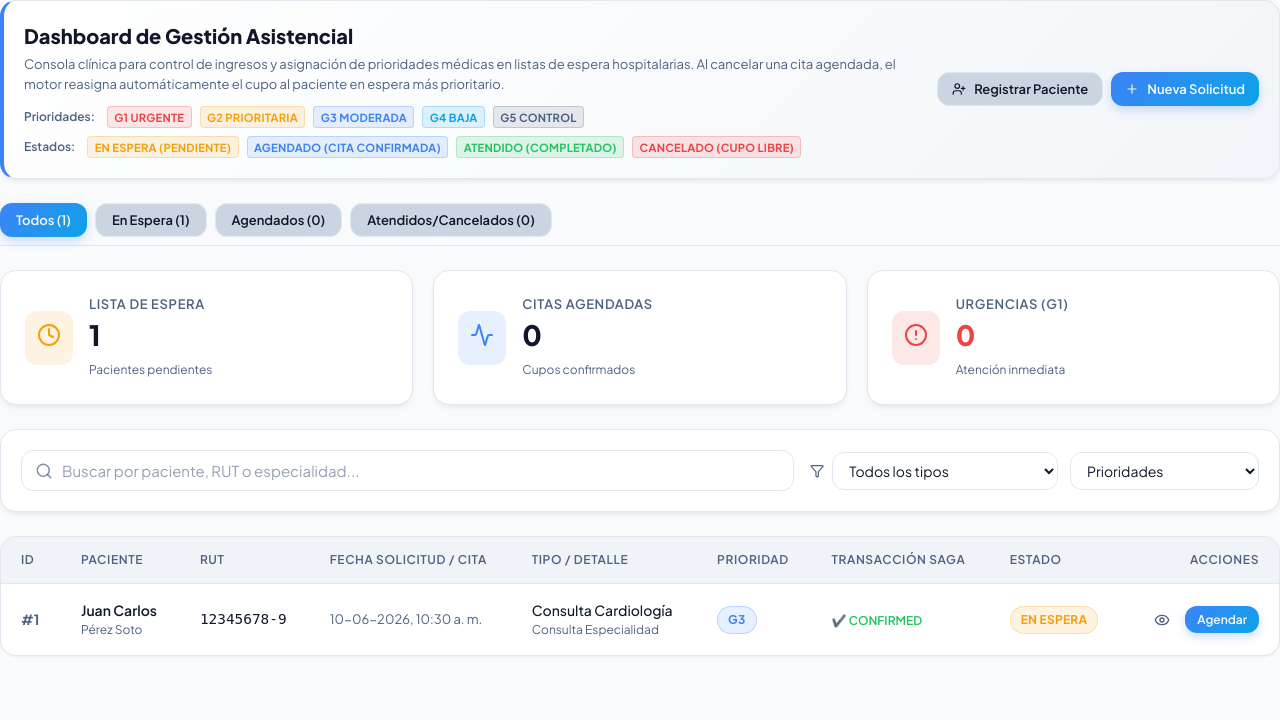
Test: ListaEsperaContainer › debe cerrar el modal de paciente al hacer clic en cancelar o en la X
The width and height of the screenshot is (1280, 720).
Click the button "Registrar Paciente" at point(1020, 90), box [937, 72, 1103, 106]
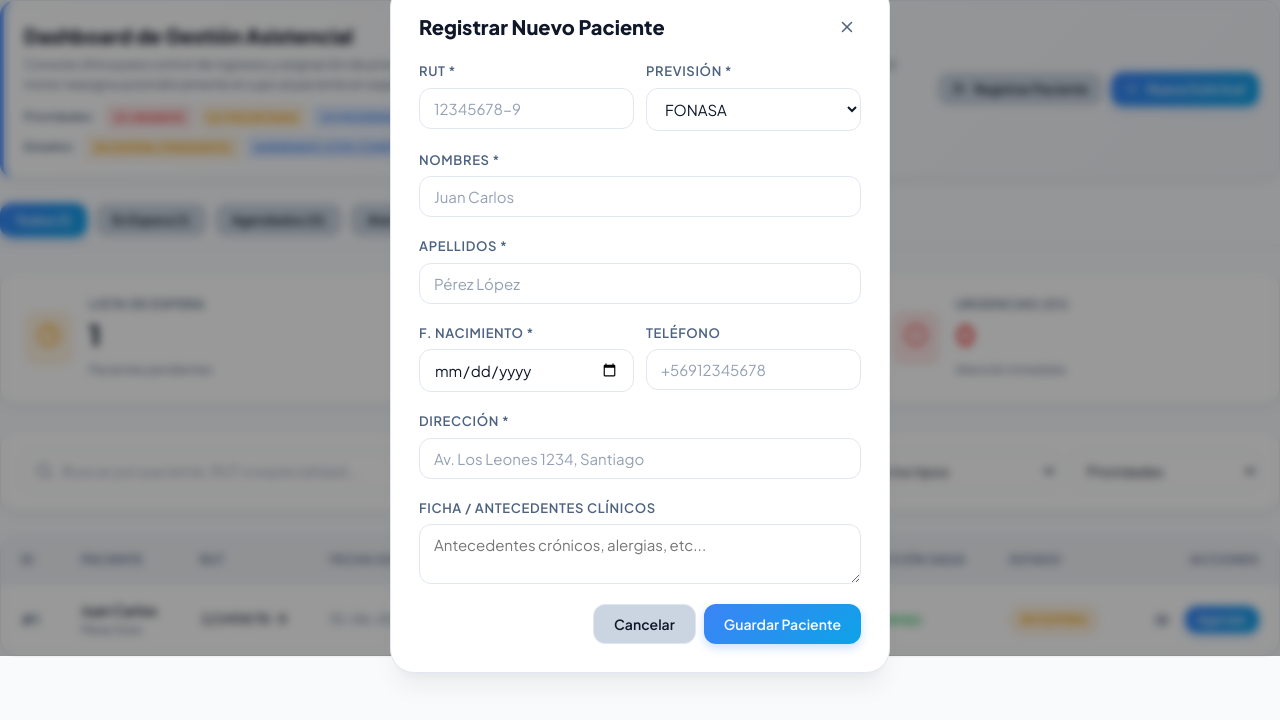
Click the button "Cancelar" at point(644, 624), box [593, 604, 696, 644]
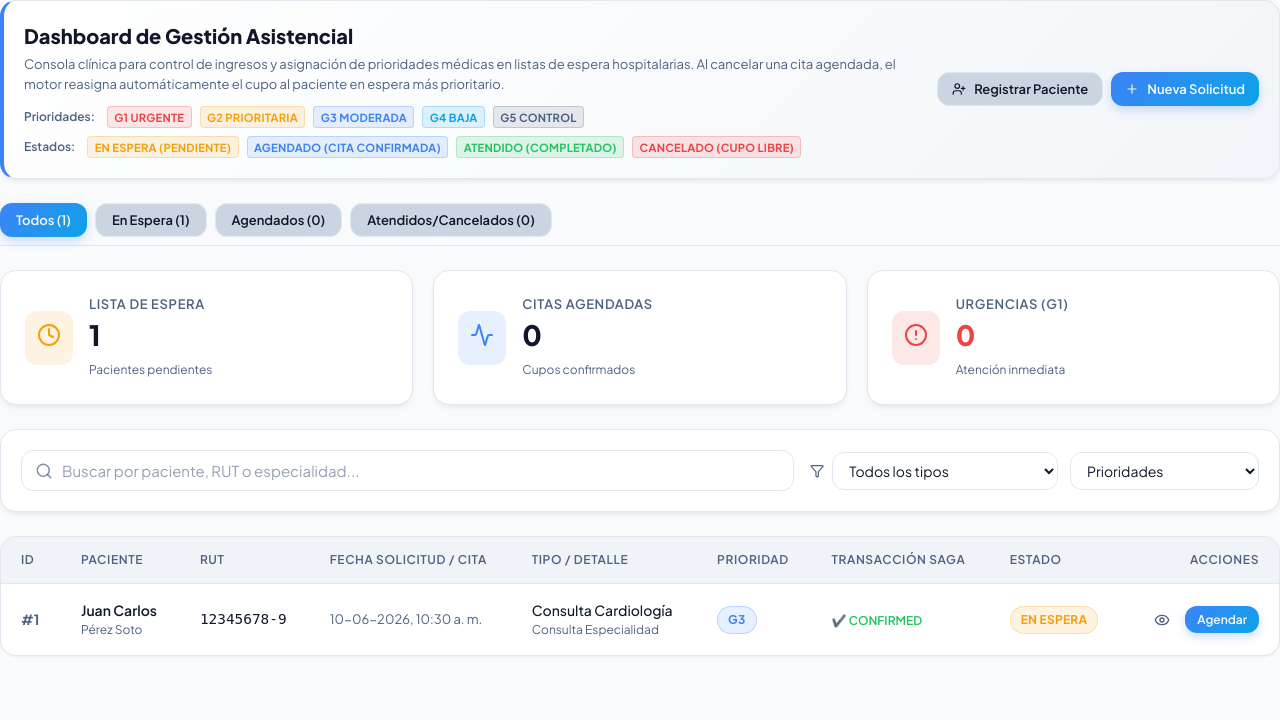
Check: the heading "Registrar Nuevo Paciente" is gone
Click the button "Registrar Paciente" at point(1020, 90), box [937, 72, 1103, 106]
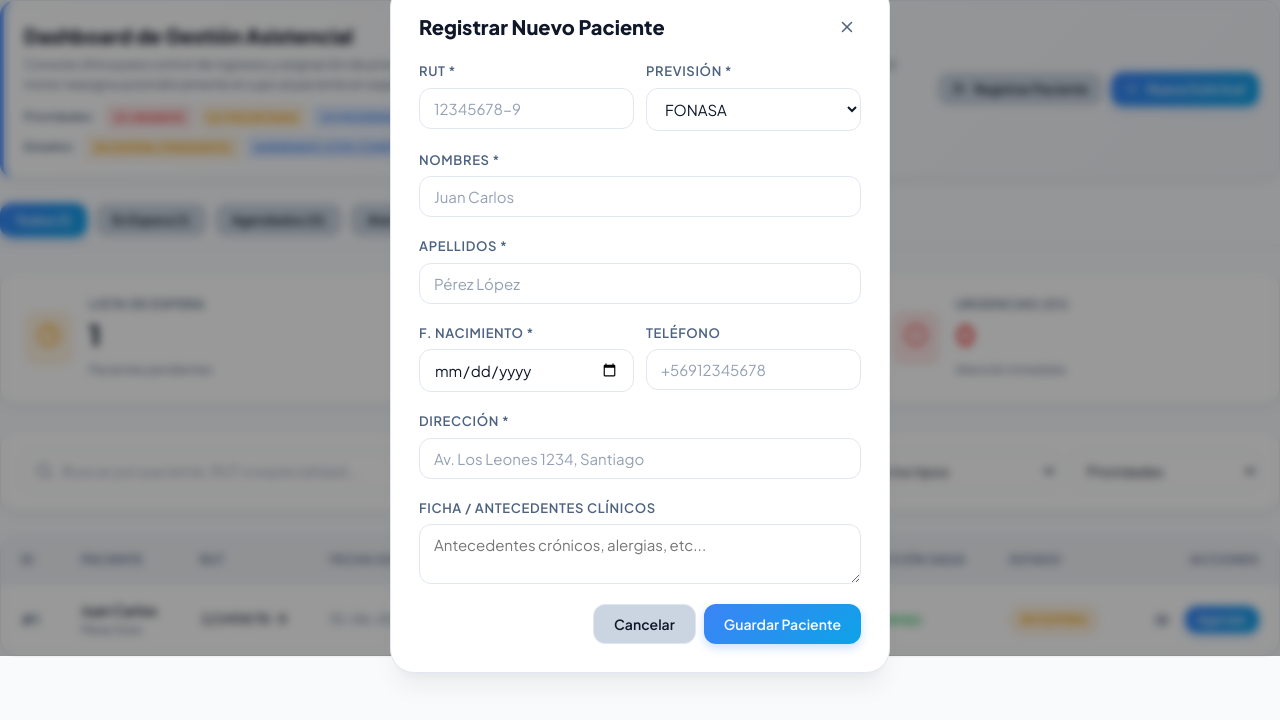
Check: the heading "Registrar Nuevo Paciente" is shown, box [419, 12, 665, 42]
Click the 1st button with class "rn-btn-icon" at point(847, 27), box [833, 13, 861, 41]
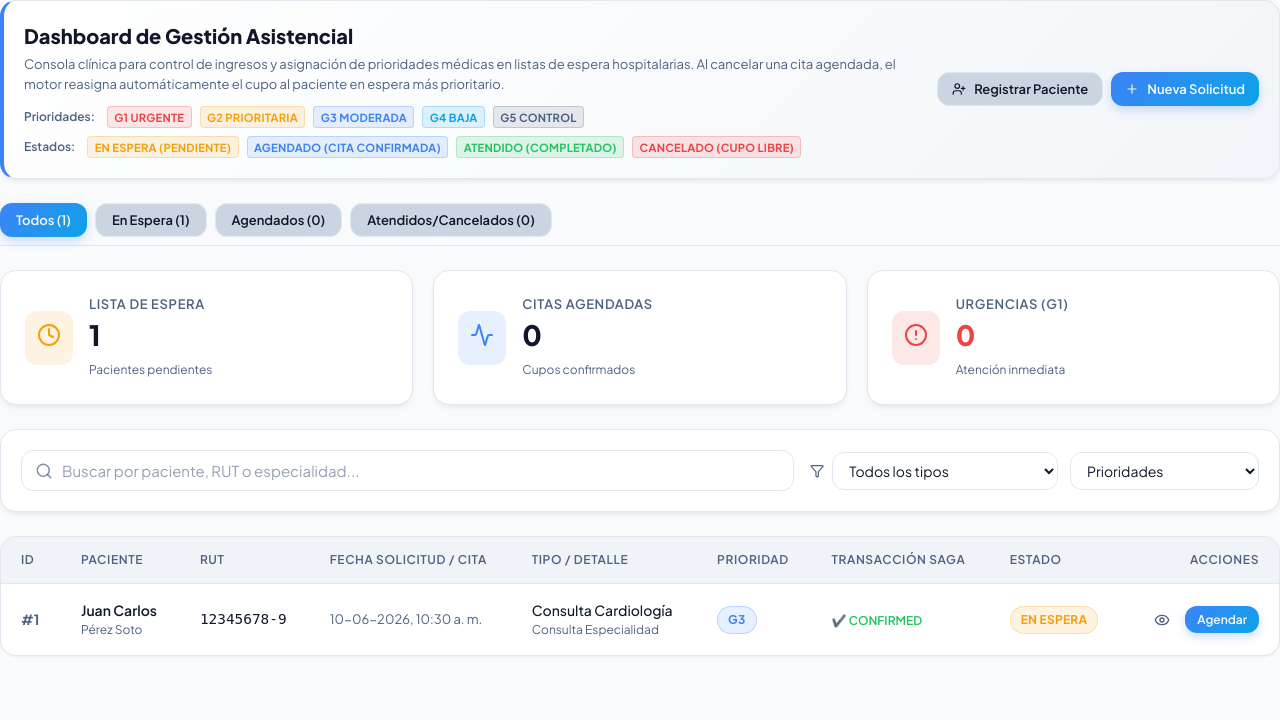
Check: the heading "Registrar Nuevo Paciente" is gone
